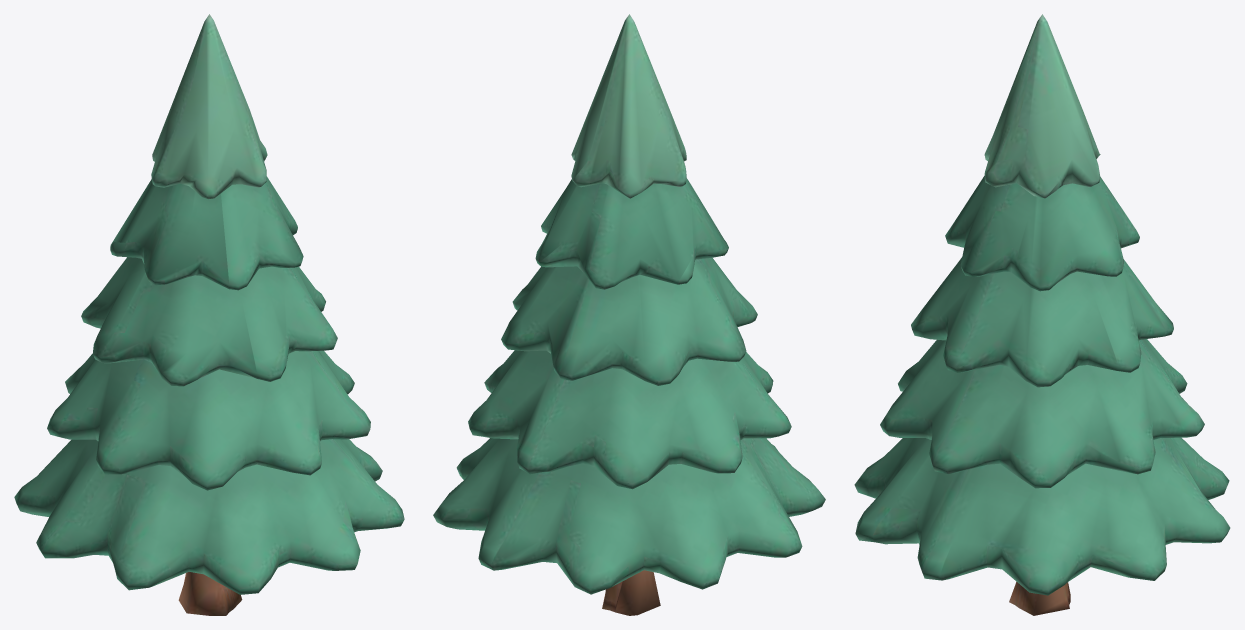
The model's file is pine-tree.glb.
3 views of the same model, side by side, from view 1: azimuth 30°, elevation 25°; view 2: azimuth 150°, elevation 25°; view 3: azimuth 270°, elevation 25° (orthographic).
Parts seen in each view (by area): view 1: pine-tree_body; view 2: pine-tree_body; view 3: pine-tree_body.
Boxes of the visible parts, x1,y1,x2,y2 form: pine-tree_body: (14, 14, 404, 615); pine-tree_body: (433, 14, 825, 615); pine-tree_body: (854, 14, 1230, 615).
Size of the model in its own units: 3.45 by 5.7 by 3.3.
1 material, 1 textured.
